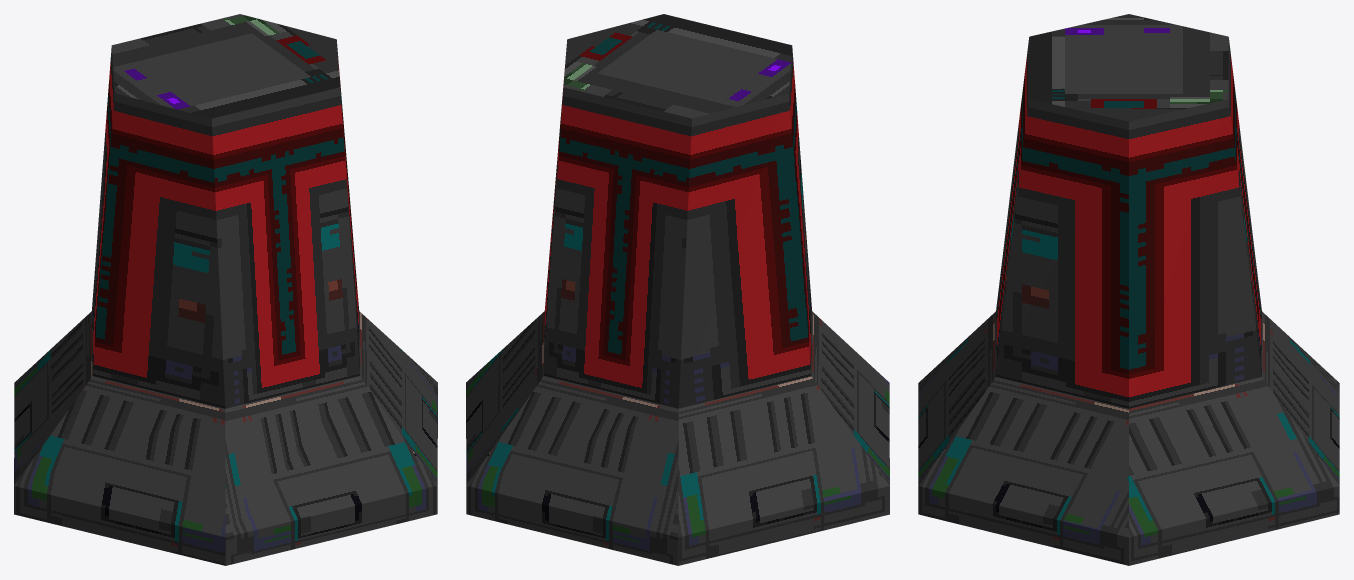
3 views of the same model, side by side, from view 1: azimuth 30°, elevation 25°; view 2: azimuth 150°, elevation 25°; view 3: azimuth 270°, elevation 25° (orthographic).
Visible parts, largest first — view 1: ss3d_08_large_cpu; view 2: ss3d_08_large_cpu; view 3: ss3d_08_large_cpu.
Part boxes in pixels (x1,y1,x2,y2): ss3d_08_large_cpu: [14, 14, 437, 565]; ss3d_08_large_cpu: [466, 14, 889, 565]; ss3d_08_large_cpu: [918, 14, 1339, 565].
Size of the model in its own units: 0.9281 by 0.8297 by 0.8016.
1 material, 1 textured.
